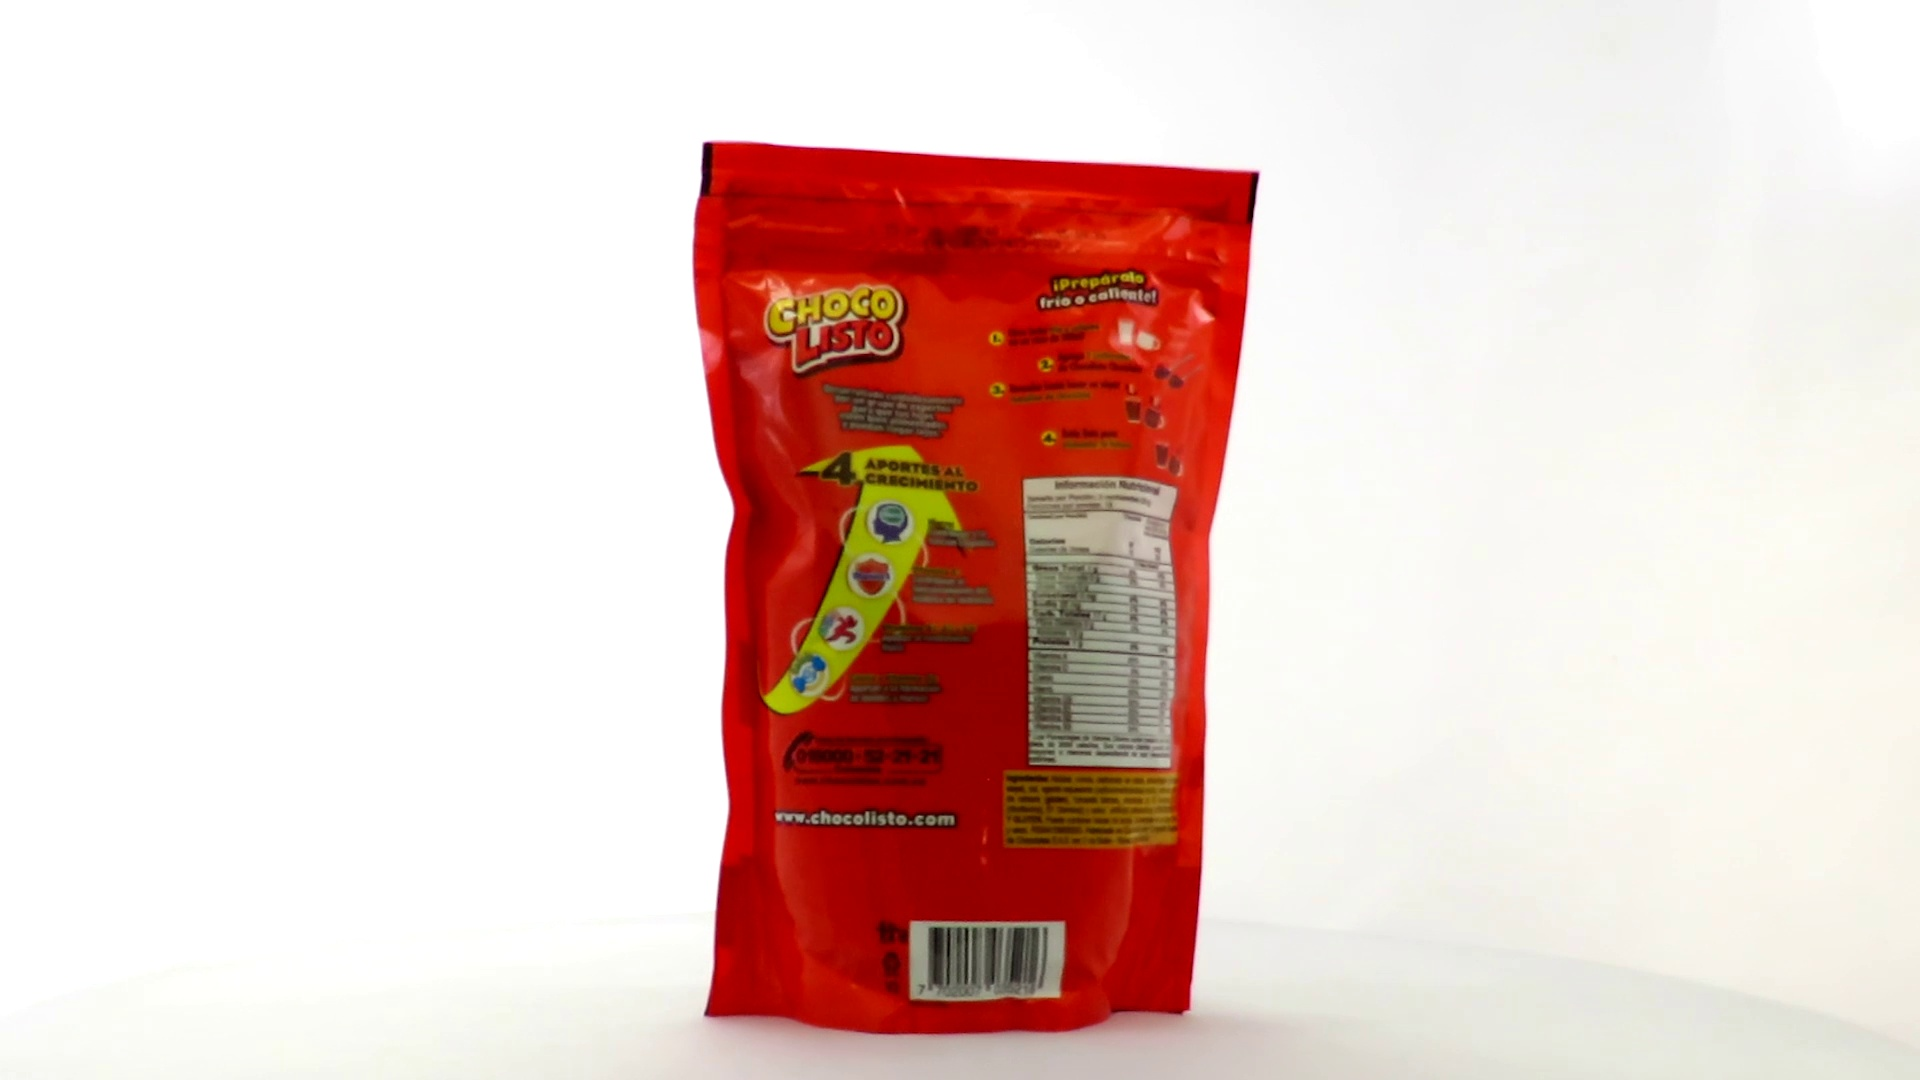COL0170103DYP36000: (687, 136, 1265, 1040)
